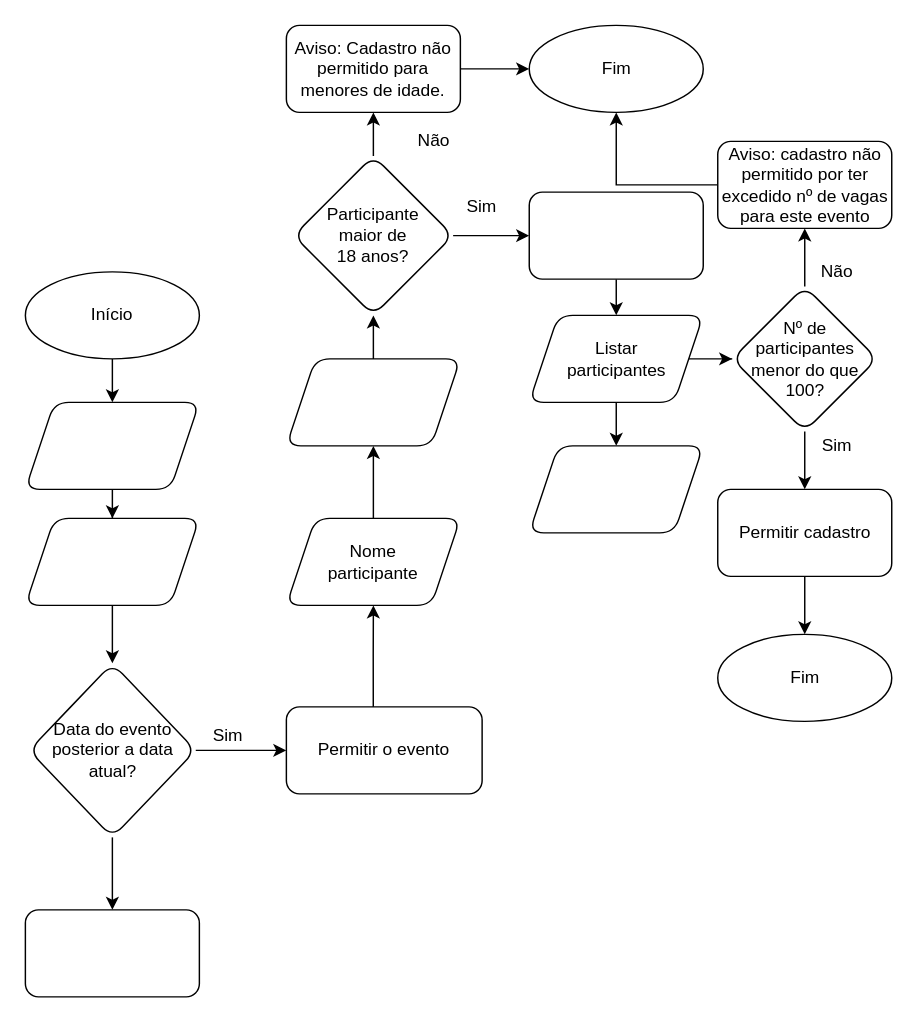
Image size: 918x1022. Some labels were removed from this diagram. Each missing label, with the box of its shape:
Cadastrar Participante: (528, 191, 703, 279)
Cadastro não permitido, data inválida.: (24, 908, 199, 997)
Data do evento: (24, 517, 199, 605)
Data nascimento participante: (285, 357, 460, 446)
Listar palestrantes: (528, 444, 703, 533)
Nome do evento: (24, 401, 199, 489)
